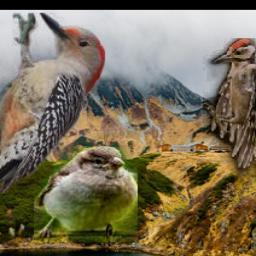Sparrow: (34, 146, 138, 242)
Woodpecker: (0, 13, 105, 193), (203, 38, 256, 183)
